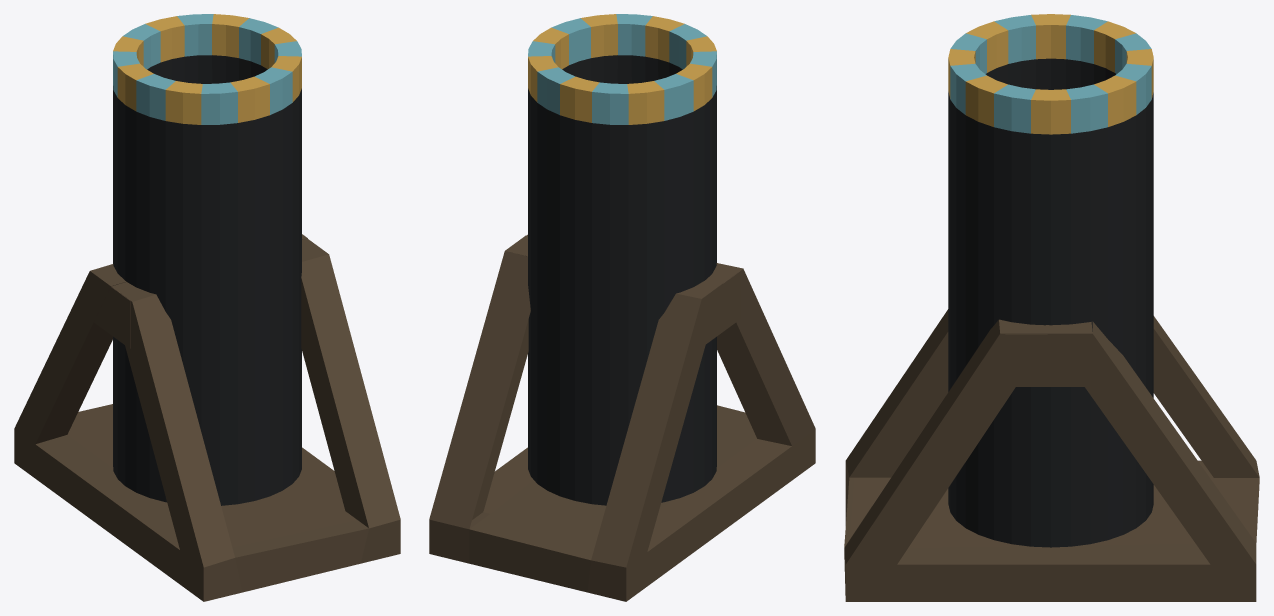
Rendered from MortarY&B.fbx.
The picture shows the model from 3 angles, left to right: view 1: azimuth 30°, elevation 25°; view 2: azimuth 150°, elevation 25°; view 3: azimuth 270°, elevation 25°; orthographic projection. The views are drawn at different scales.
Parts seen in each view (by area): view 1: Cylinder, Cube.001, Cube; view 2: Cylinder, Cube.001, Cube; view 3: Cylinder, Cube.001, Cube.002.
Boxes of the visible parts, box(x1,y1,x2,y2) form: Cylinder: box(113, 14, 301, 505); Cube.001: box(14, 234, 400, 601); Cube: box(94, 287, 130, 348); Cylinder: box(528, 14, 716, 505); Cube.001: box(429, 234, 815, 601); Cube: box(706, 270, 741, 343); Cylinder: box(948, 14, 1153, 547); Cube.001: box(844, 309, 1259, 601); Cube.002: box(1005, 334, 1087, 386).
Bounding box in the file's own units: 60.06 × 132 × 101.
Materials: 3 (3 with a texture image).
